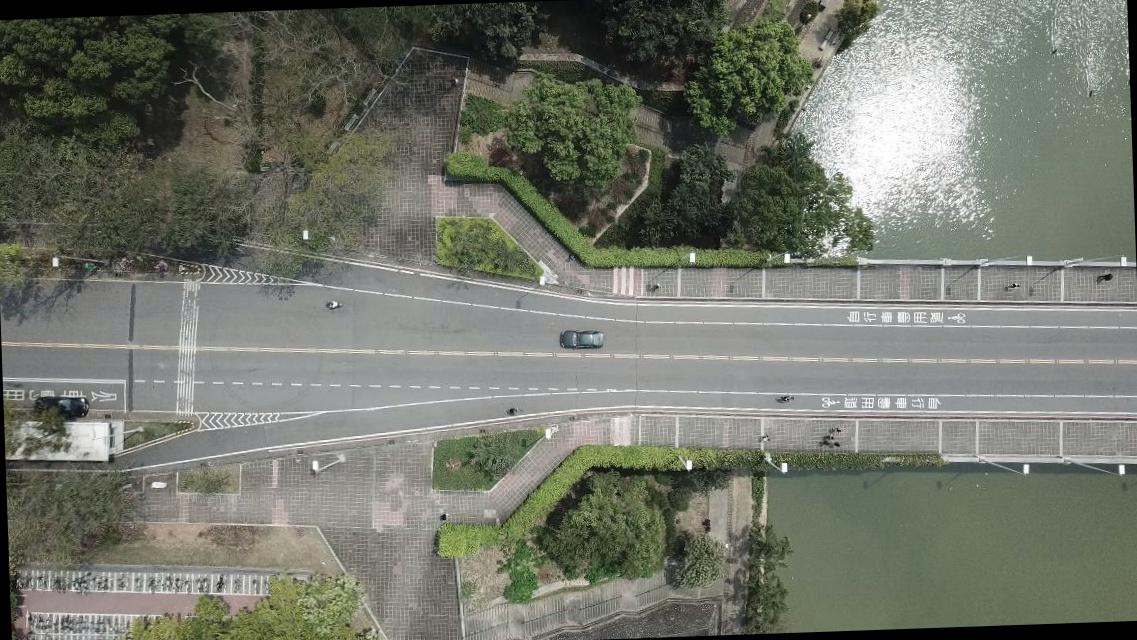vehicle: (32, 394, 88, 420), (559, 328, 603, 349)
